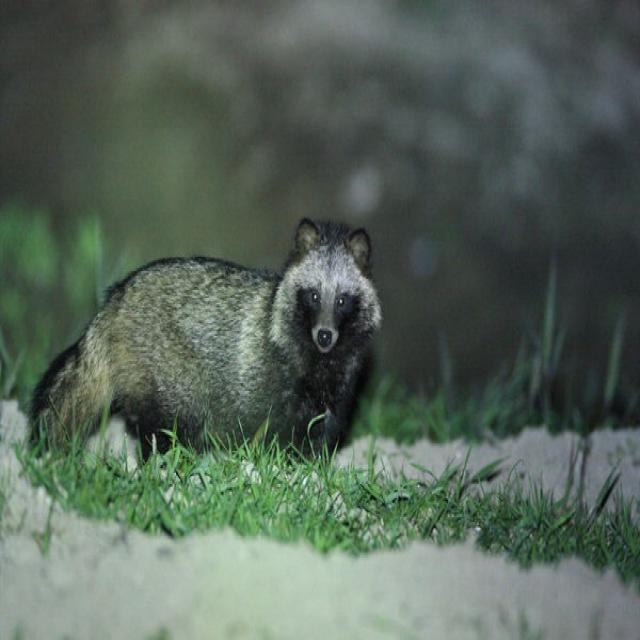racoon: (34, 223, 392, 495)
